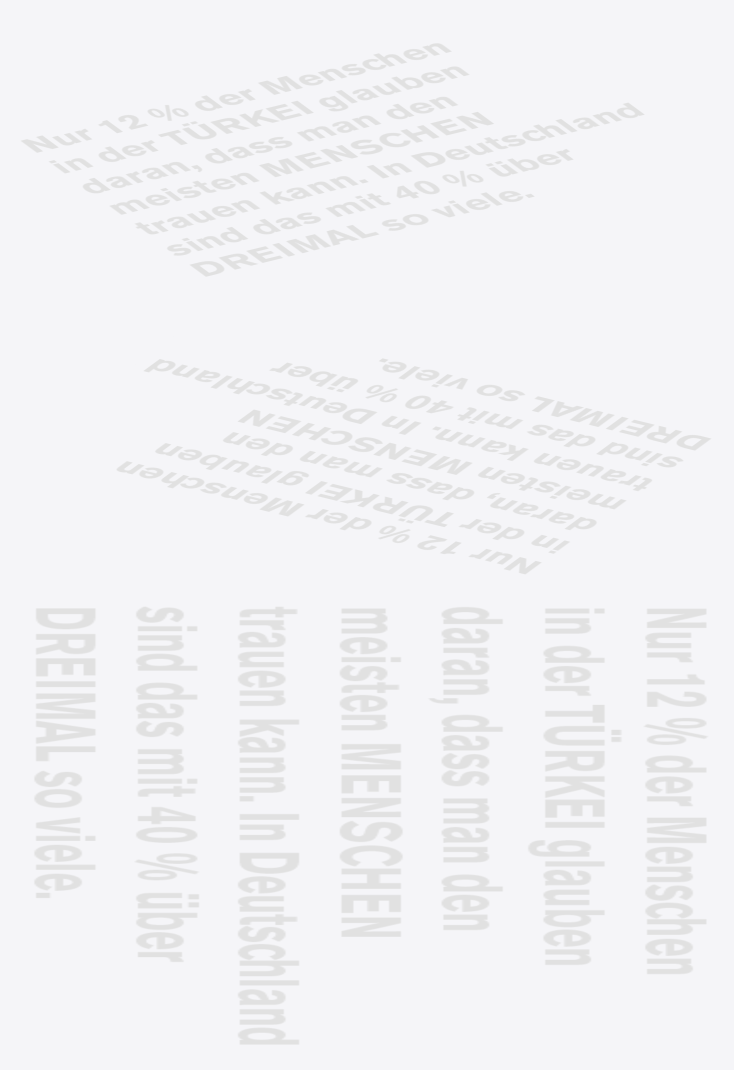
Rendered from privileged-ii-Fakten1.glb.
3 renders of one model, top to bottom at view 1: azimuth 30°, elevation 25°; view 2: azimuth 150°, elevation 25°; view 3: azimuth 270°, elevation 25°, orthographic. The views are drawn at different scales.
Parts seen in each view (by area): view 1: 1; view 2: 1; view 3: 1.
Part boxes in pixels (x1,y1,x2,y2): 1: [21, 43, 644, 276]; 1: [116, 358, 711, 574]; 1: [34, 606, 707, 1044].
Bounding box in the file's own units: 1.57 × 0 × 1.04.
1 material, 1 textured.
